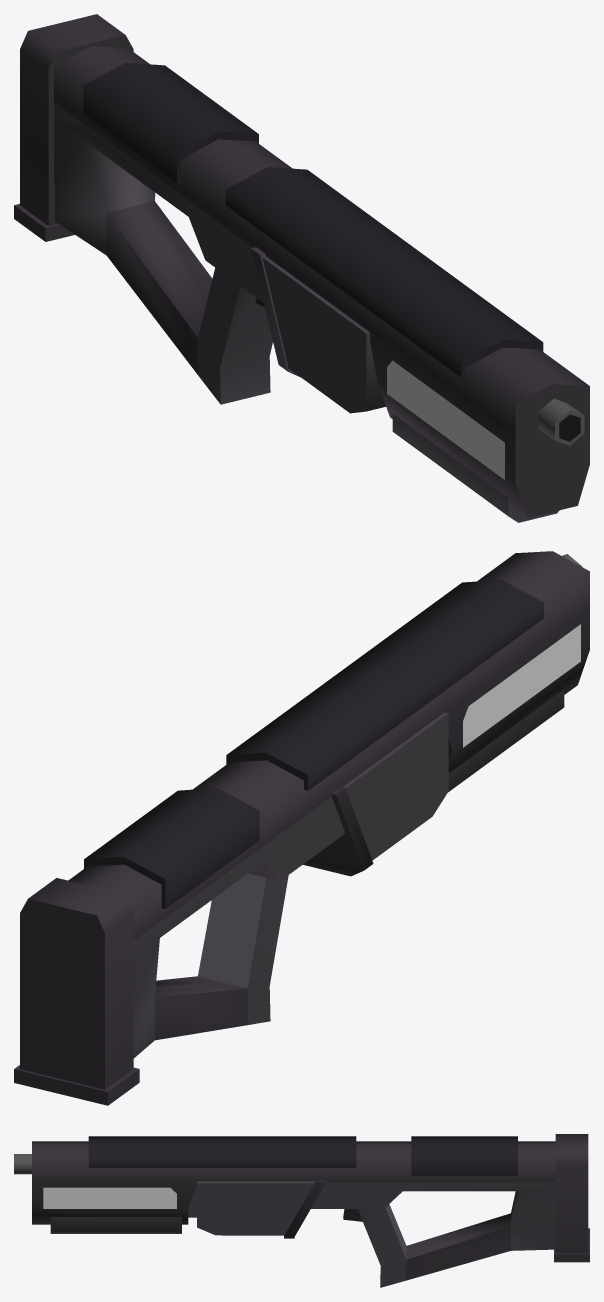
File: IonRifle.fbx
3 views of the same model, one above another, from view 1: azimuth 30°, elevation 25°; view 2: azimuth 150°, elevation 25°; view 3: azimuth 270°, elevation 25° (orthographic). The views are drawn at different scales.
Parts seen in each view (by area): view 1: IonRifle; view 2: IonRifle; view 3: IonRifle.
Boxes of the visible parts, box(x1,y1,x2,y2) form: IonRifle: box(14, 14, 589, 522); IonRifle: box(14, 551, 589, 1105); IonRifle: box(14, 1134, 589, 1287).
Size of the model in its own units: 8.87 by 22.27 by 82.98.
